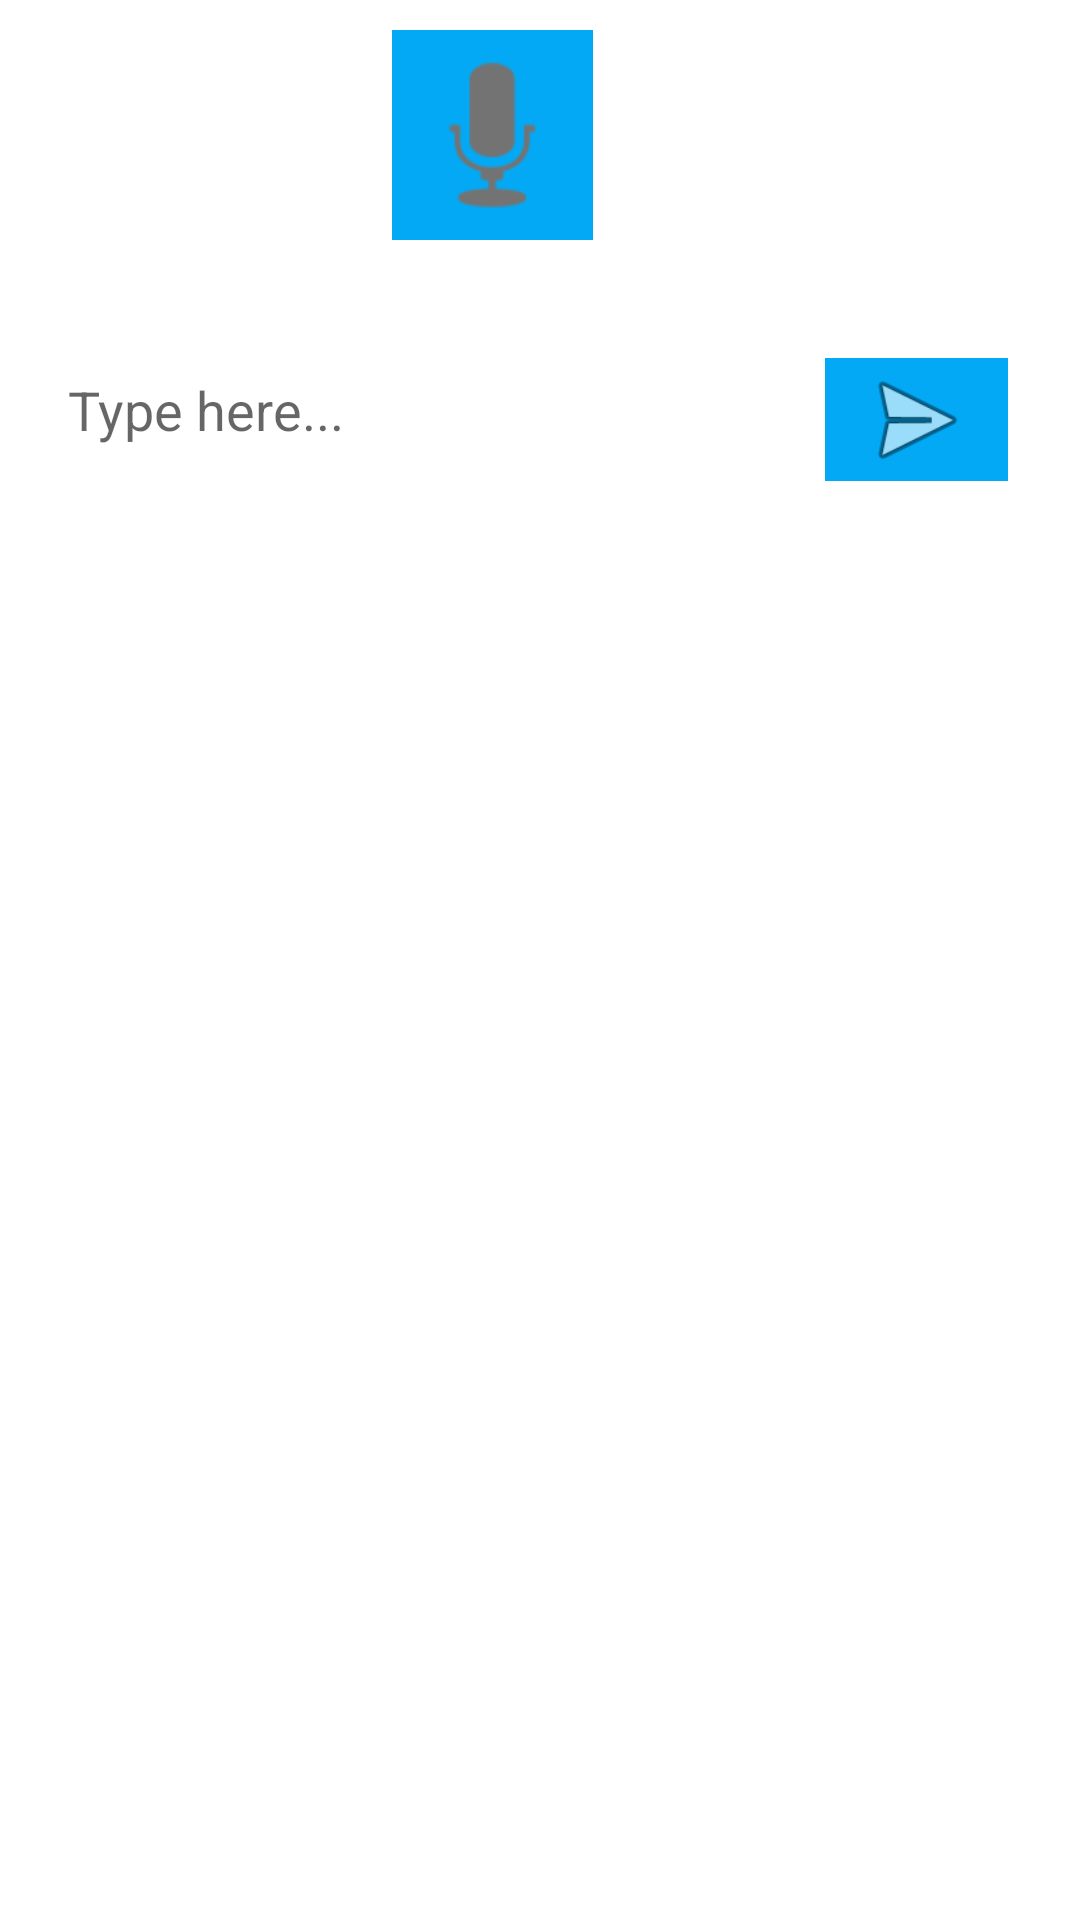

Icons on this 1080x1920 Android screen, each with its box as bbox=[x1, y1, x2, y2]:
send: bbox=[825, 358, 1008, 481]
speak now: bbox=[392, 30, 593, 240]
